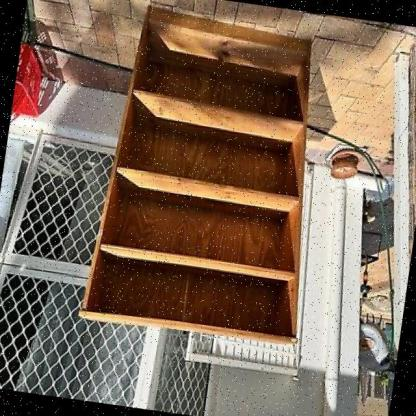Shelf: (74, 0, 344, 350)
